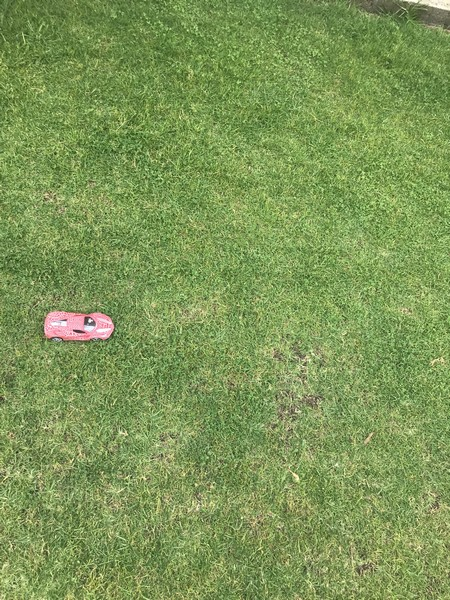RC: (42, 309, 117, 345)
